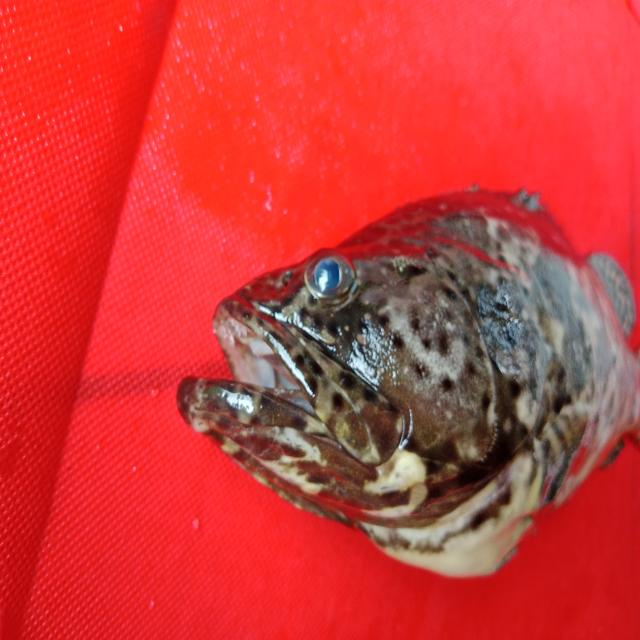ikan: (158, 158, 634, 587)
